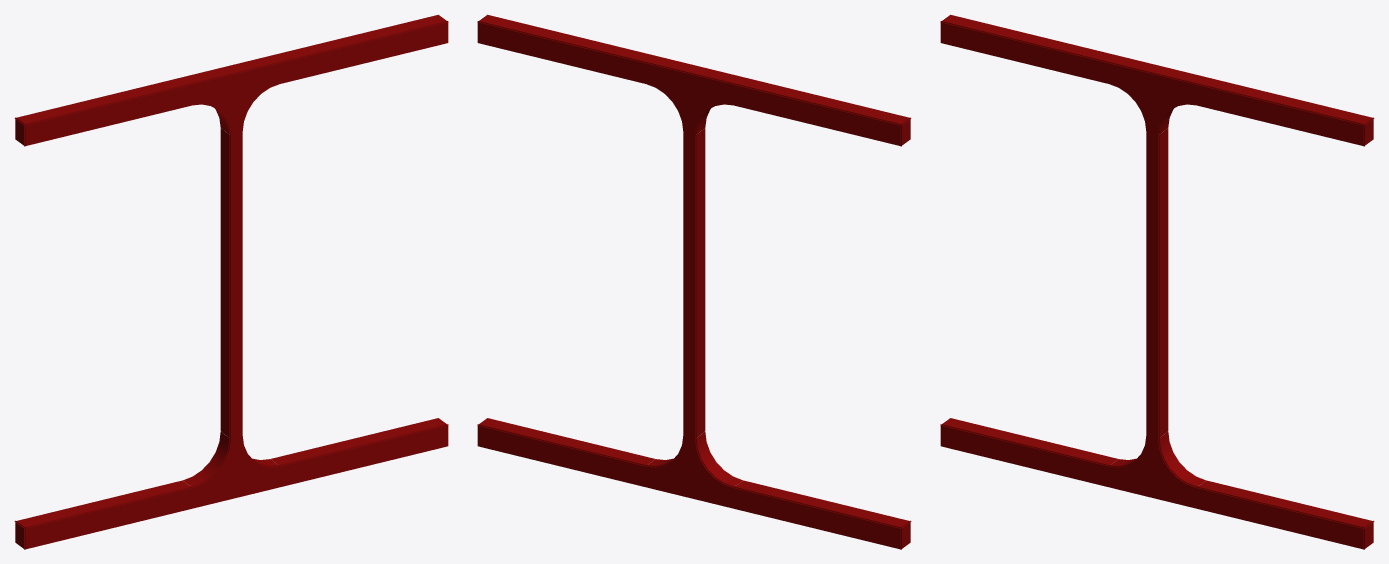
File: HEA240.glb
3 views of the same model, side by side, from view 1: azimuth 30°, elevation 25°; view 2: azimuth 150°, elevation 25°; view 3: azimuth 330°, elevation 25° (orthographic).
Size of the model in its own units: 24 by 23 by 1.
